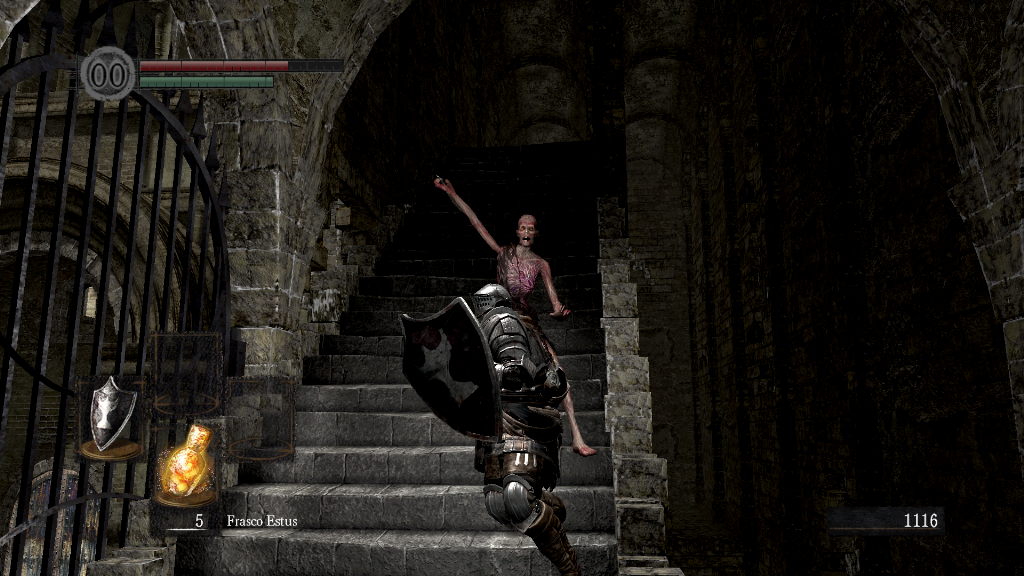health: (138, 58, 343, 71)
hollow: (426, 172, 599, 461)
humanity: (80, 45, 136, 102)
player: (395, 280, 585, 576)
souls: (825, 506, 945, 536)
stamina: (138, 74, 274, 88)
